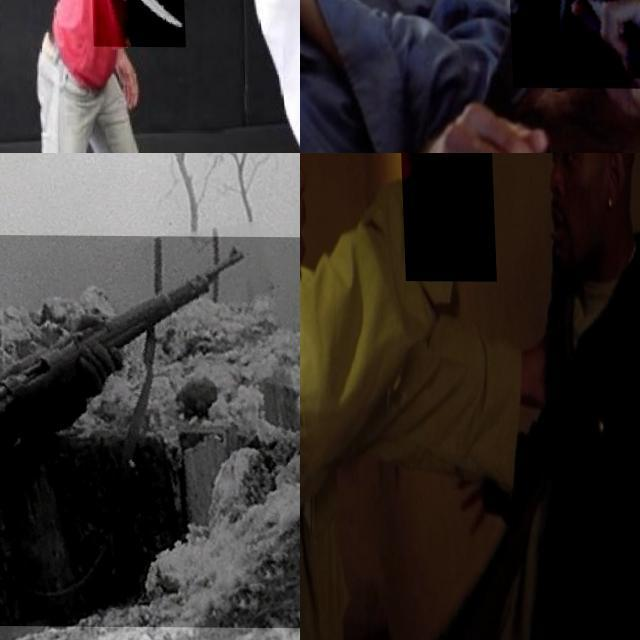-: (88, 0, 183, 57)
gun-knife-thesis - v11 Yolov5 augmented: (0, 233, 300, 627), (499, 0, 640, 153), (399, 153, 494, 281)
